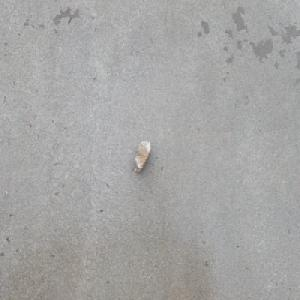Rock: (133, 140, 151, 173)
